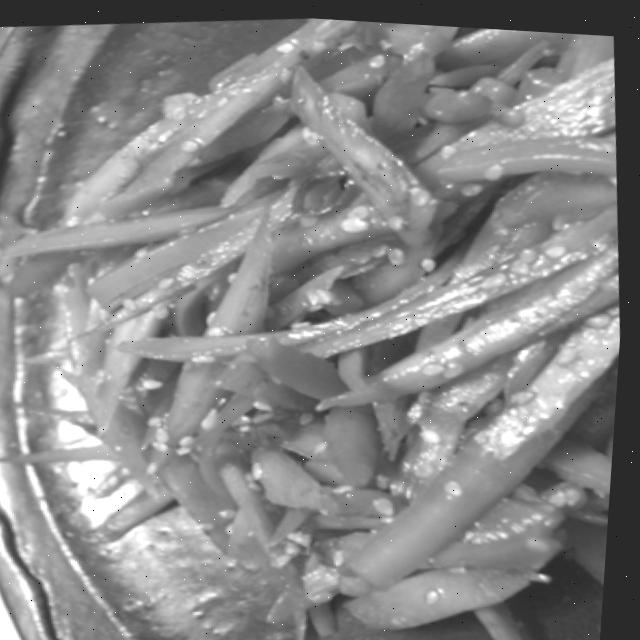蔬菜料理: (17, 2, 640, 640)
